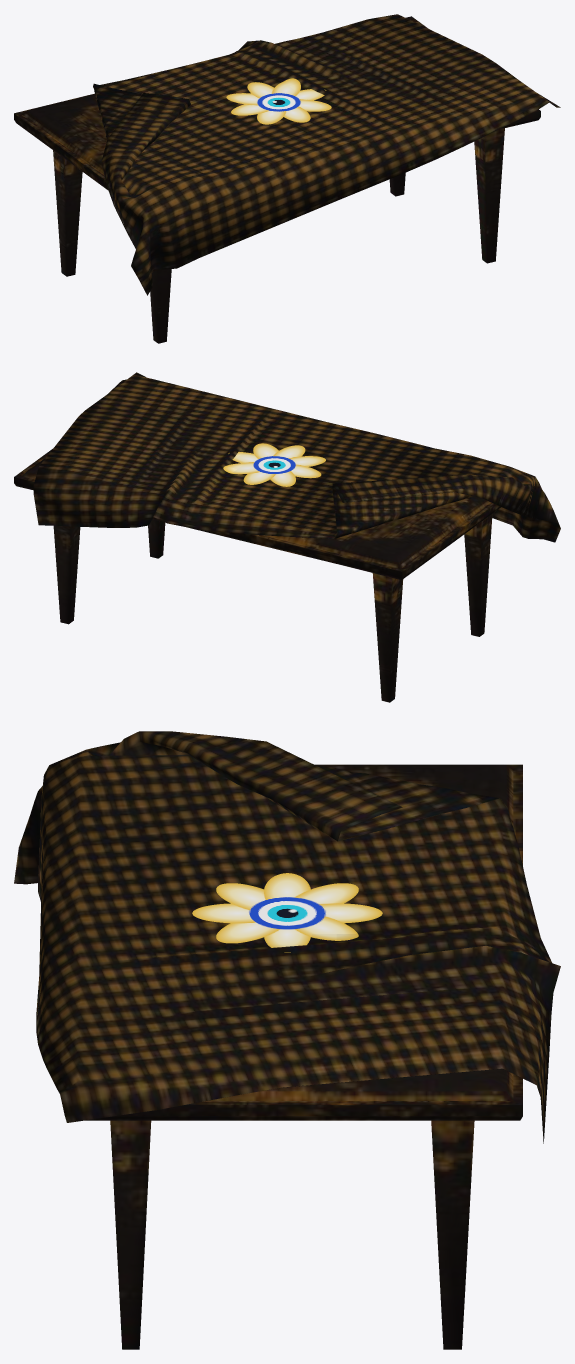
The model's file is nyb_devils_table.glb.
3 renders of one model, top to bottom at view 1: azimuth 30°, elevation 25°; view 2: azimuth 150°, elevation 25°; view 3: azimuth 270°, elevation 25°, orthographic. The views are drawn at different scales.
Visible parts, largest first — view 1: dining_table, stk_eyeflower_gold.png; view 2: dining_table, stk_eyeflower_gold.png; view 3: dining_table, stk_eyeflower_gold.png.
Part boxes in pixels (<box>): dining_table: <box>14,14,560,343</box>; stk_eyeflower_gold.png: <box>226,78,331,124</box>; dining_table: <box>14,372,560,702</box>; stk_eyeflower_gold.png: <box>223,443,325,486</box>; dining_table: <box>14,731,560,1349</box>; stk_eyeflower_gold.png: <box>192,873,382,952</box>.
Size of the model in its own units: 2.26 by 0.877 by 1.39.
Materials: 2 (2 with a texture image).
